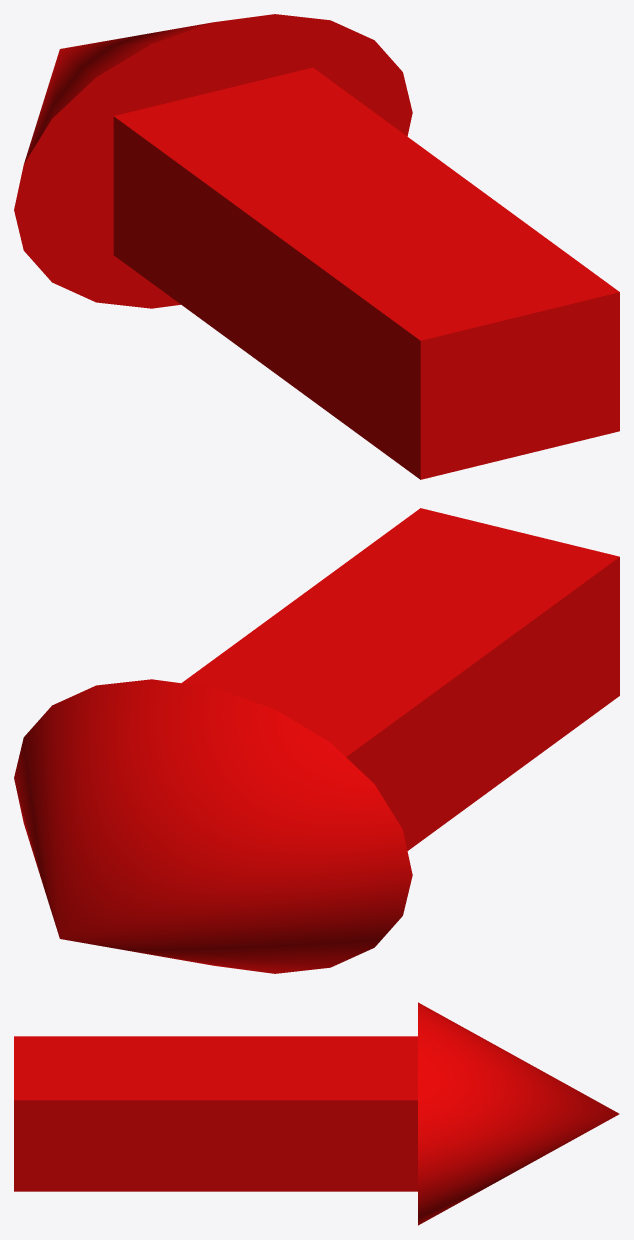
The model's file is arrow.fbx.
The picture shows the model from 3 angles, top to bottom: view 1: azimuth 30°, elevation 25°; view 2: azimuth 150°, elevation 25°; view 3: azimuth 270°, elevation 25°; orthographic projection. The views are drawn at different scales.
Visible parts, largest first — view 1: pCube2, pCone2; view 2: pCone2, pCube2; view 3: pCube2, pCone2.
Part boxes in pixels (x1,y1,x2,y2): pCube2: [113, 67, 619, 479]; pCone2: [14, 14, 412, 308]; pCone2: [14, 679, 412, 973]; pCube2: [181, 508, 619, 850]; pCube2: [14, 1036, 417, 1191]; pCone2: [418, 1002, 619, 1225].
Bounding box in the file's own units: 1.5 × 1 × 3.
